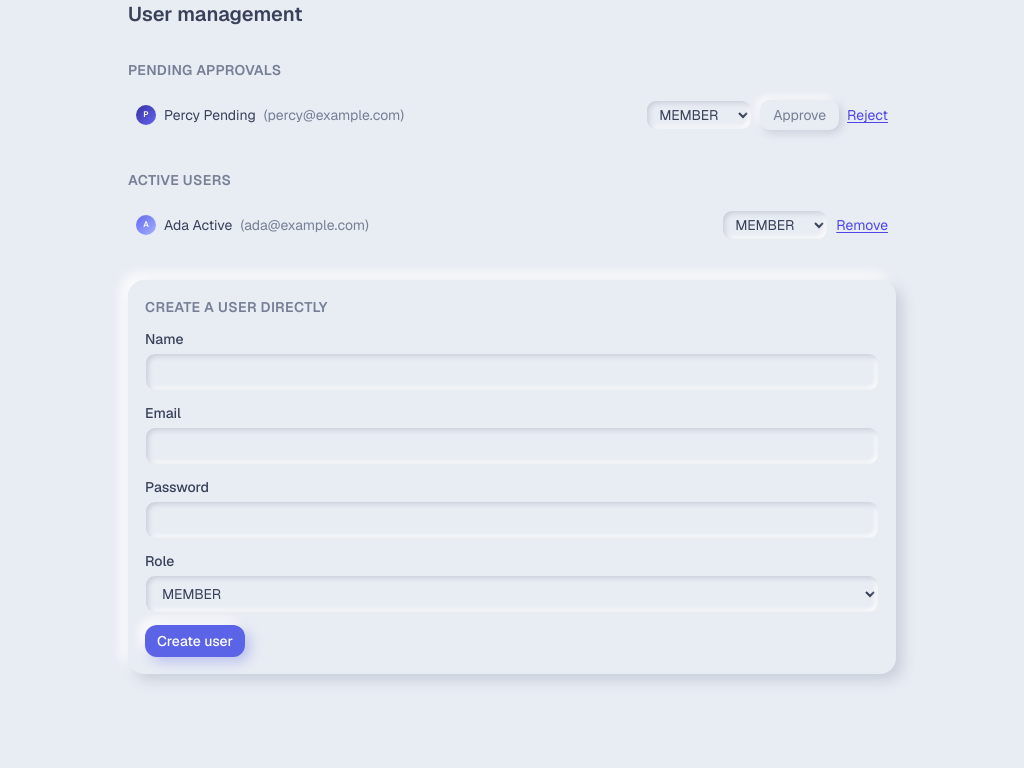
Test: AdminUsersPage › changes an active user's role after confirmation
Expected: the text "Ada Active" is shown, [164,216,232,234]
Select "MANAGER" in the dropdown named "Role for Ada Active" at (775, 225), box [722,210,828,240]
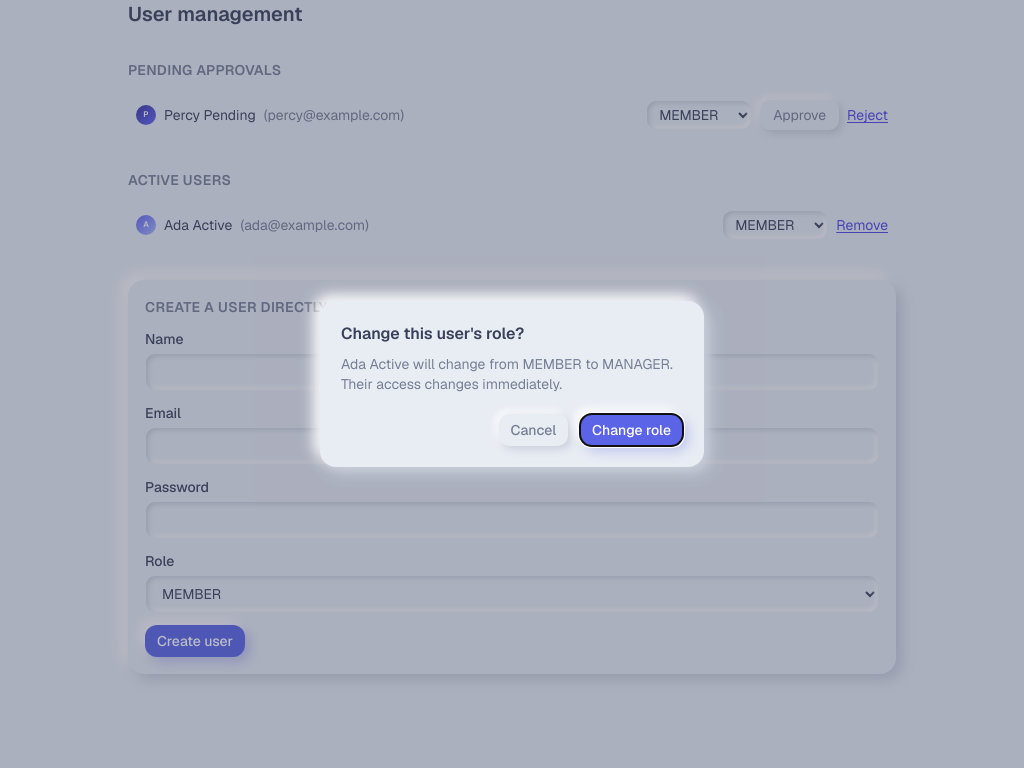
Click the button "Change role".
click(632, 430)  # box [580,414,683,446]
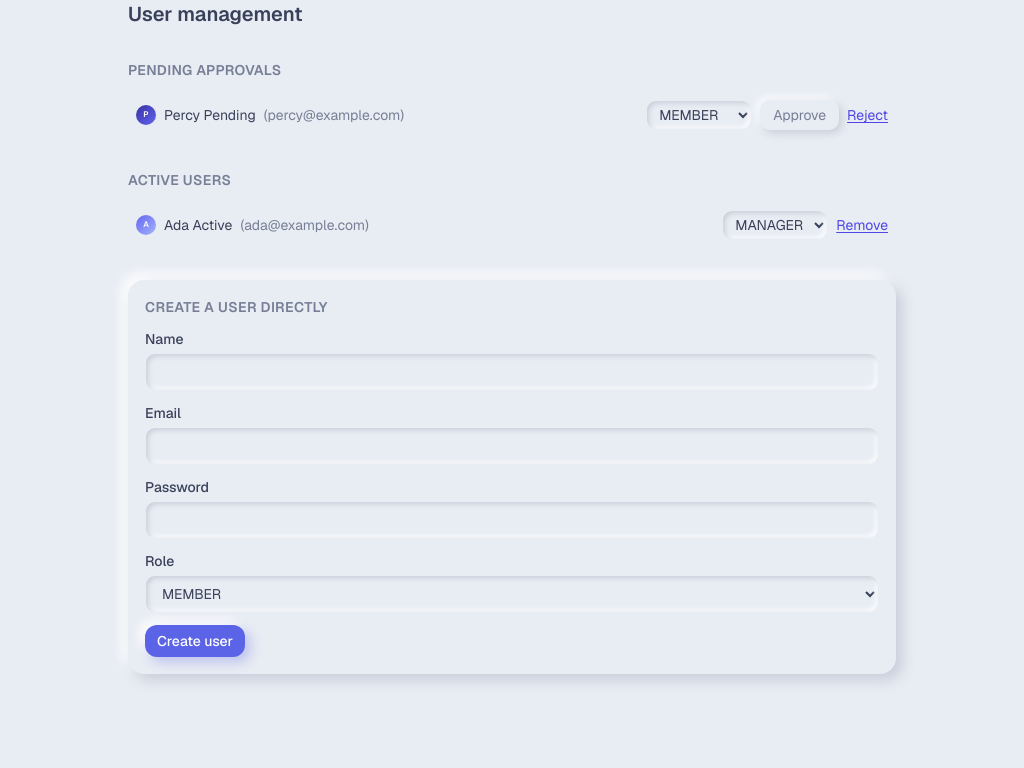
Result: the dialog is gone
